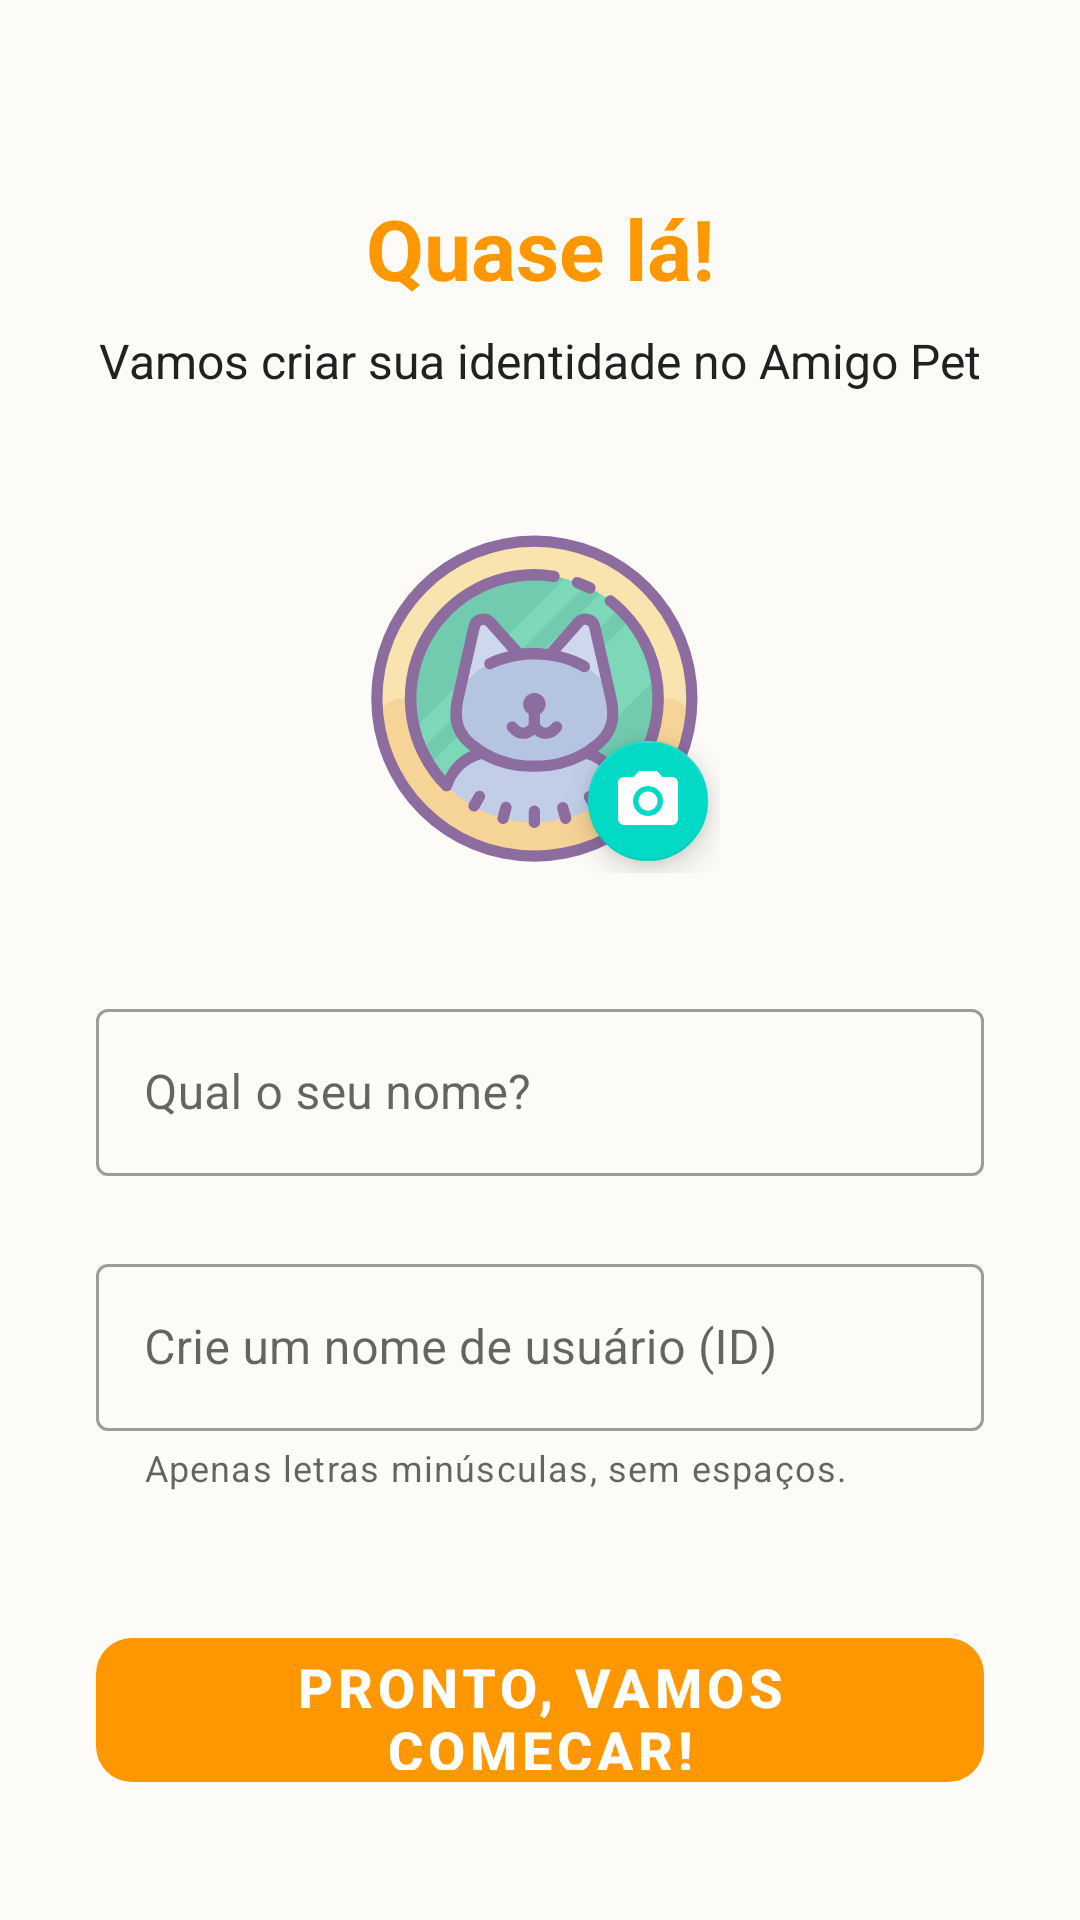

Icon click points for this 1080px×1920px phone screenshot, format (x,y):
camera: (648,801)
